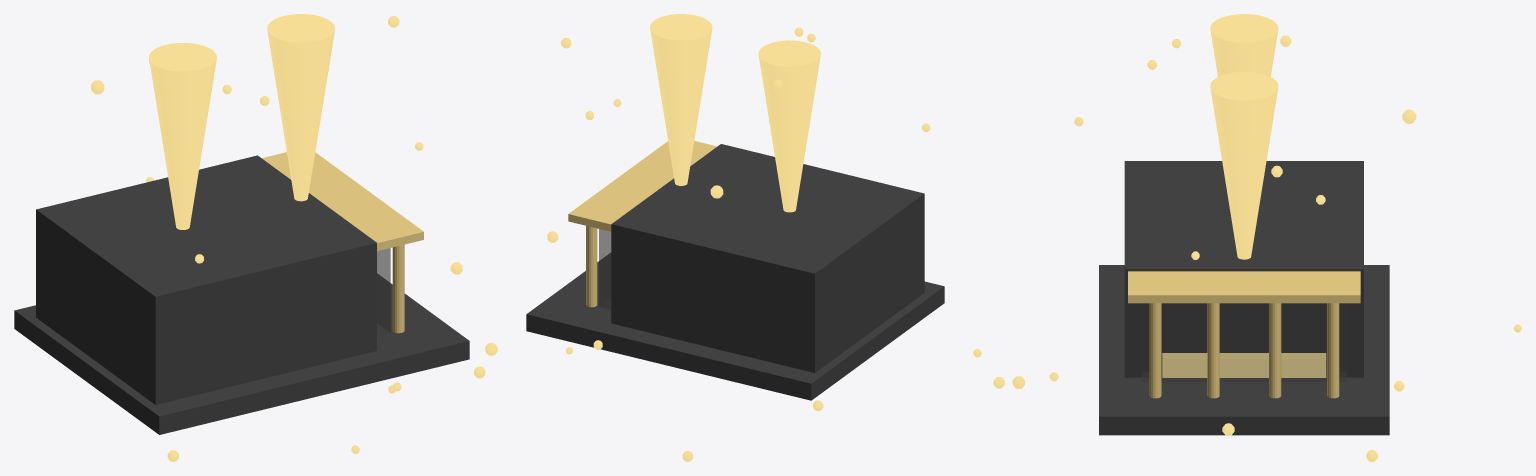
File: venues_bubble.glb
The picture shows the model from 3 angles, left to right: view 1: azimuth 30°, elevation 25°; view 2: azimuth 150°, elevation 25°; view 3: azimuth 270°, elevation 25°; orthographic projection. The views are drawn at different scales.
Parts seen in each view (by area): view 1: Cube.001, Cube, Cone.001, Cone, Cube.004, Cube.002, Cylinder; view 2: Cube.001, Cube, Cone.001, Cone, Cube.004, Cube.002, Cylinder.003; view 3: Cube.001, Cube, Cube.002, Cone.001, Cube.004, Cone, Cube.003, Cylinder, Cylinder.001, Cylinder.002, Cylinder.003.
Part boxes in pixels (x1,y1,x2,y2): Cube.001: [36, 155, 376, 404]; Cube: [14, 273, 469, 434]; Cone.001: [267, 14, 334, 201]; Cone: [149, 43, 216, 229]; Cube.004: [262, 152, 423, 251]; Cube.002: [377, 248, 390, 336]; Cylinder: [392, 244, 404, 333]; Cube.001: [611, 144, 924, 372]; Cube: [526, 253, 944, 400]; Cone.001: [650, 14, 712, 185]; Cone: [758, 40, 820, 212]; Cube.004: [568, 141, 717, 231]; Cube.002: [599, 229, 611, 309]; Cylinder.003: [586, 226, 597, 307]; Cube.001: [1124, 161, 1363, 377]; Cube: [1099, 265, 1389, 435]; Cube.002: [1141, 303, 1346, 382]; Cone.001: [1210, 71, 1278, 259]; Cube.004: [1128, 271, 1360, 303]; Cone: [1210, 14, 1278, 76]; Cube.003: [1162, 353, 1326, 377]; Cylinder: [1149, 303, 1161, 398]; Cylinder.001: [1207, 303, 1219, 398]; Cylinder.002: [1269, 303, 1281, 398]; Cylinder.003: [1327, 303, 1339, 398].
Size of the model in its own units: 1.24 by 1.32 by 1.6.
